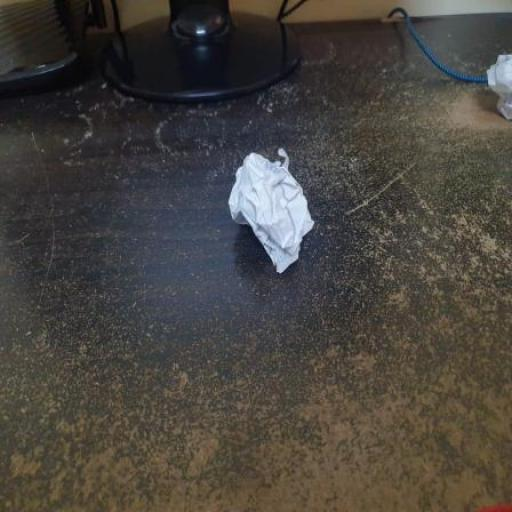paper: (185, 128, 358, 336)
